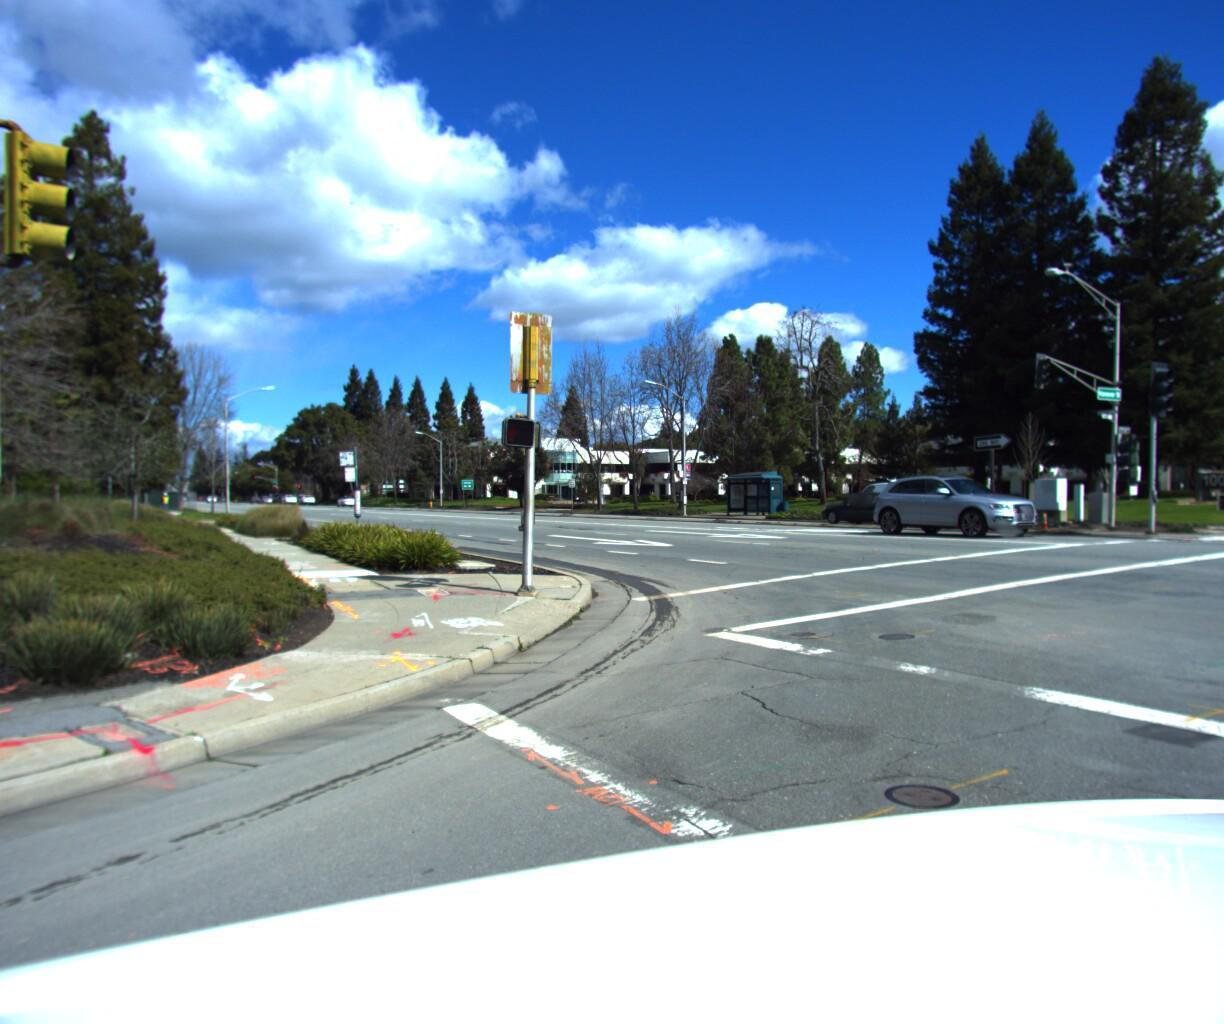car: (866, 472, 1060, 543), (838, 474, 961, 529), (815, 492, 933, 529)
